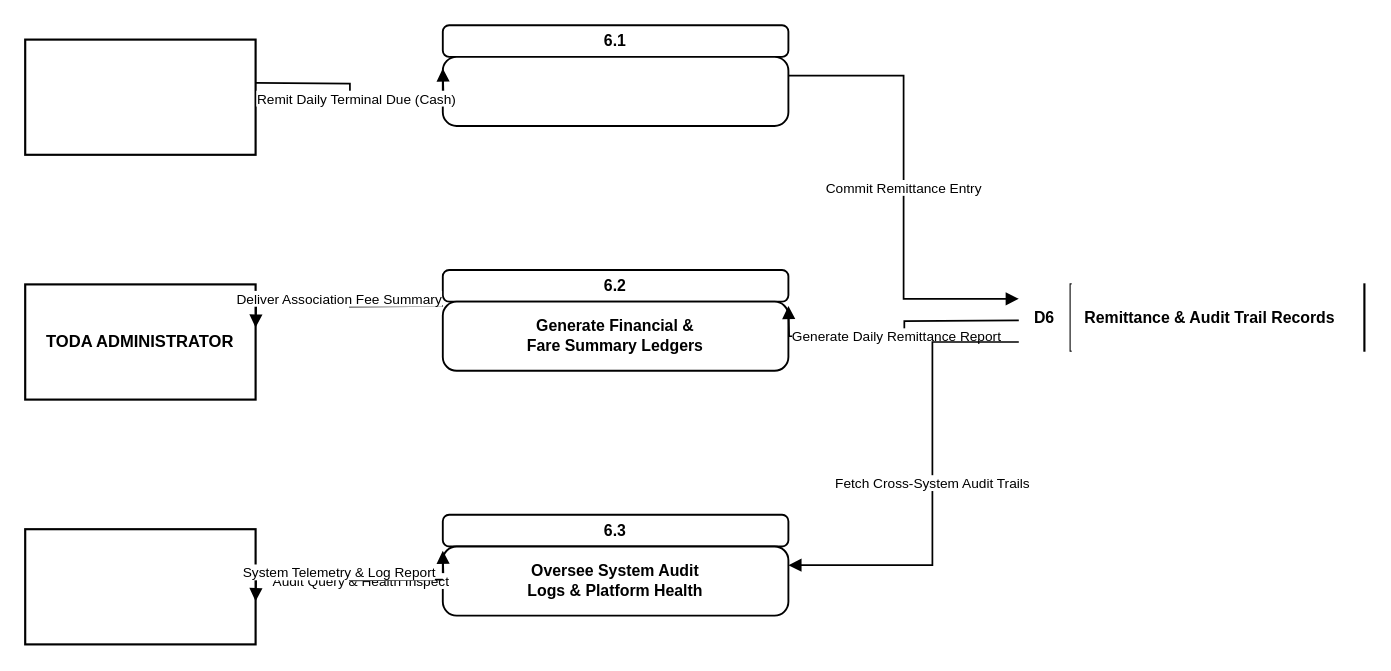
This 1391x671 diagram has some shape labels left out. Each missing label, with the box of its shape:
Record Daily Terminal Fee Remittance: (441, 55, 789, 126)
SUPERADMINISTRATOR: (23, 527, 256, 645)
TRICYCLE DRIVER: (23, 38, 256, 155)
